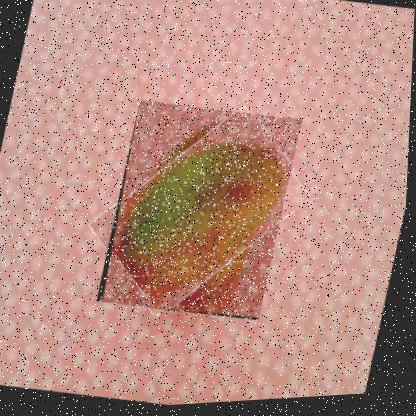mango: (97, 94, 305, 332)
